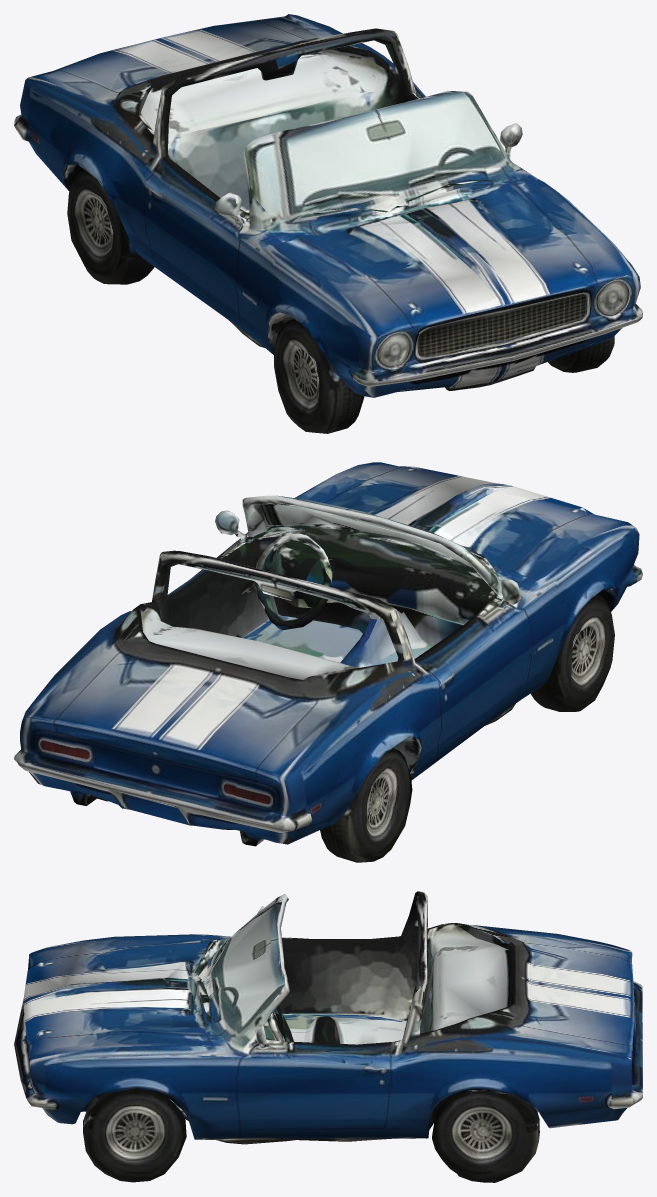
Rendered from cobra_65.glb.
The picture shows the model from 3 angles, top to bottom: view 1: azimuth 30°, elevation 25°; view 2: azimuth 150°, elevation 25°; view 3: azimuth 270°, elevation 25°; orthographic projection. The views are drawn at different scales.
Parts seen in each view (by area): view 1: textured; view 2: textured; view 3: textured.
Part boxes in pixels (x1,y1,x2,y2): textured: (14, 14, 642, 433); textured: (14, 462, 642, 862); textured: (14, 891, 642, 1182).
Bounding box in the file's own units: 0.9815 × 0.6766 × 1.99.
1 material, 1 textured.
